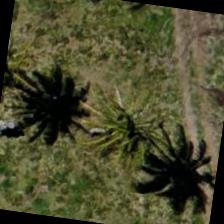Kelapa_Sawit: (72, 80, 174, 182)
